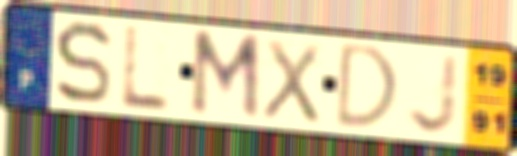D: (332, 40, 402, 130)
J: (405, 51, 462, 136)
L: (118, 23, 174, 114)
M: (188, 28, 264, 124)
S: (51, 18, 114, 108)
X: (259, 36, 323, 127)
